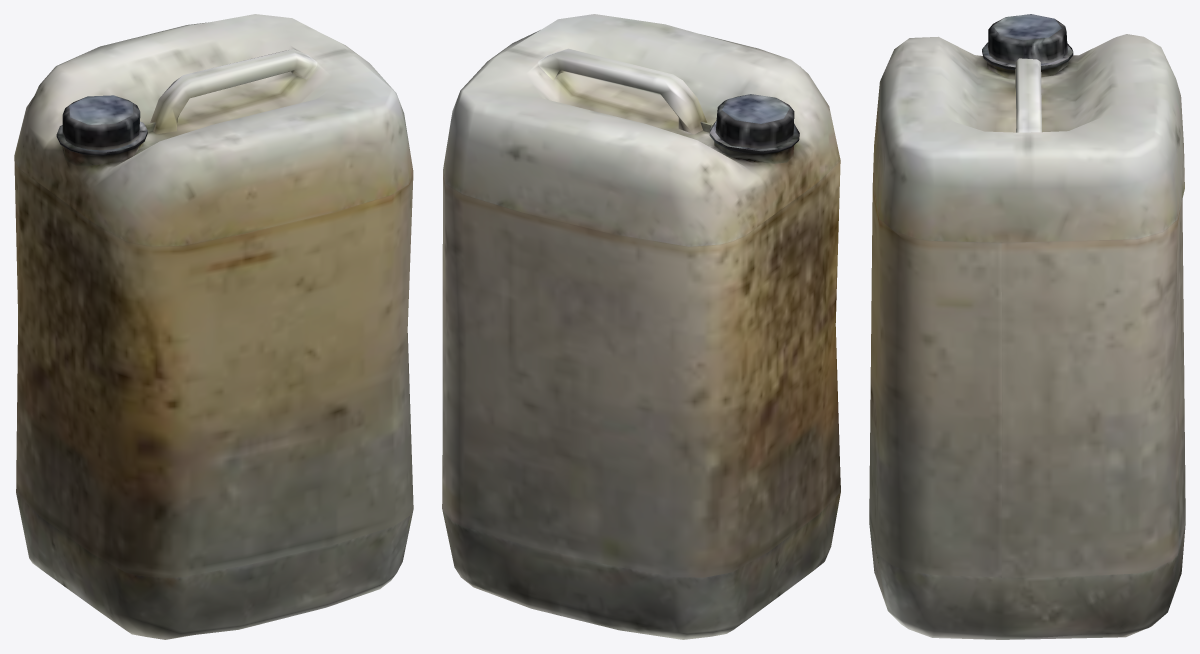
The model's file is jerrycan.glb.
3 views of the same model, side by side, from view 1: azimuth 30°, elevation 25°; view 2: azimuth 150°, elevation 25°; view 3: azimuth 270°, elevation 25° (orthographic).
Parts seen in each view (by area): view 1: kanistra_2_kanistra_2_0; view 2: kanistra_2_kanistra_2_0; view 3: kanistra_2_kanistra_2_0.
Part boxes in pixels (left/top/right/bottom): kanistra_2_kanistra_2_0: left=14, top=14, right=413, bottom=639; kanistra_2_kanistra_2_0: left=442, top=14, right=840, bottom=639; kanistra_2_kanistra_2_0: left=869, top=14, right=1185, bottom=639.
Size of the model in its own units: 0.3193 by 0.4995 by 0.2823.
1 material, 1 textured.
